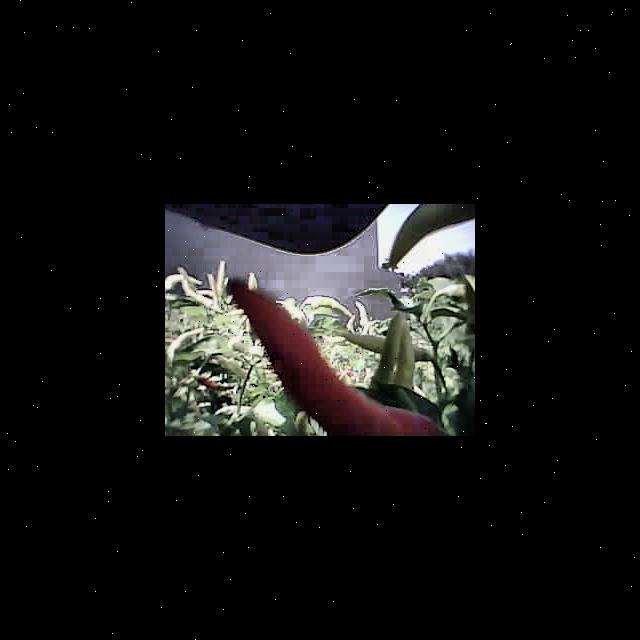Cabai: (240, 281, 367, 425)
